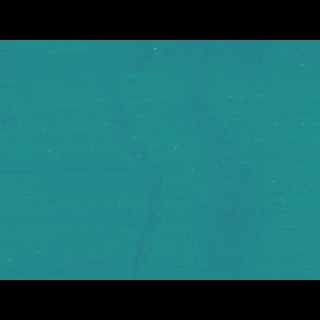Loch: (74, 69, 277, 252)
